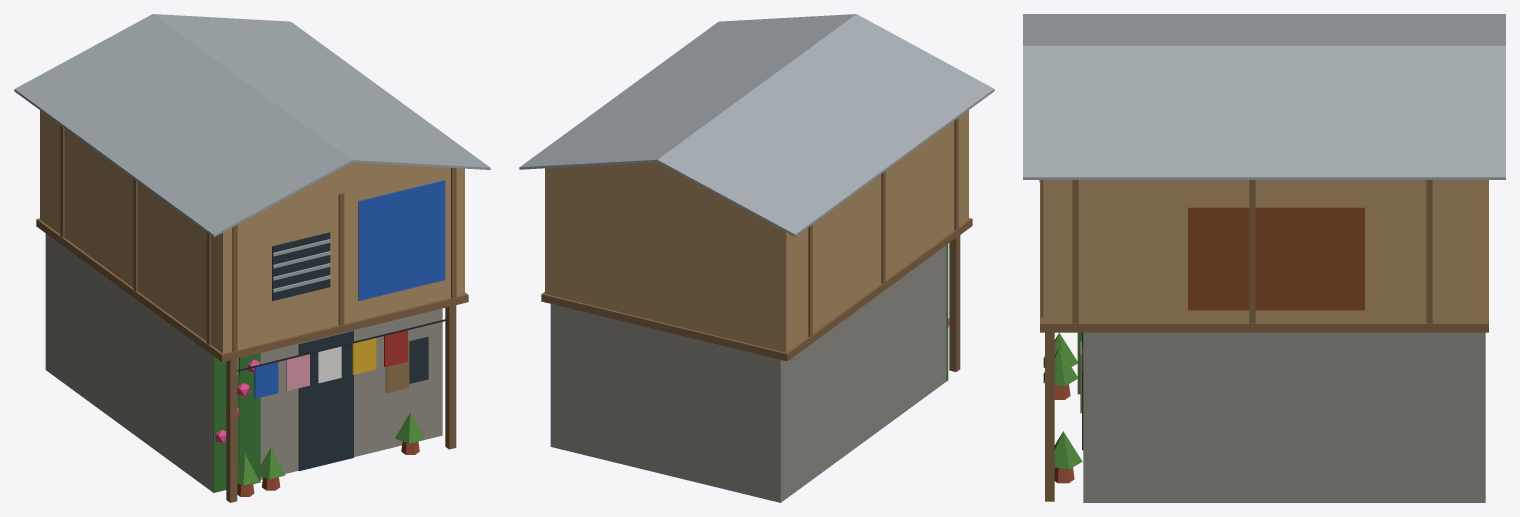
File: BAY_I_Shanty2F_S.glb
3 views of the same model, side by side, from view 1: azimuth 30°, elevation 25°; view 2: azimuth 150°, elevation 25°; view 3: azimuth 270°, elevation 25° (orthographic). The views are drawn at different scales.
Visible parts, largest first — view 1: BAY_I_Shanty2F_S; view 2: BAY_I_Shanty2F_S; view 3: BAY_I_Shanty2F_S.
Boxes of the visible parts, x1,y1,x2,y2 form: BAY_I_Shanty2F_S: (14,14,490,502); BAY_I_Shanty2F_S: (519,14,994,502); BAY_I_Shanty2F_S: (1023,14,1505,502).
Bounding box in the file's own units: 4.8 × 5.34 × 6.
1 material, 1 textured.
